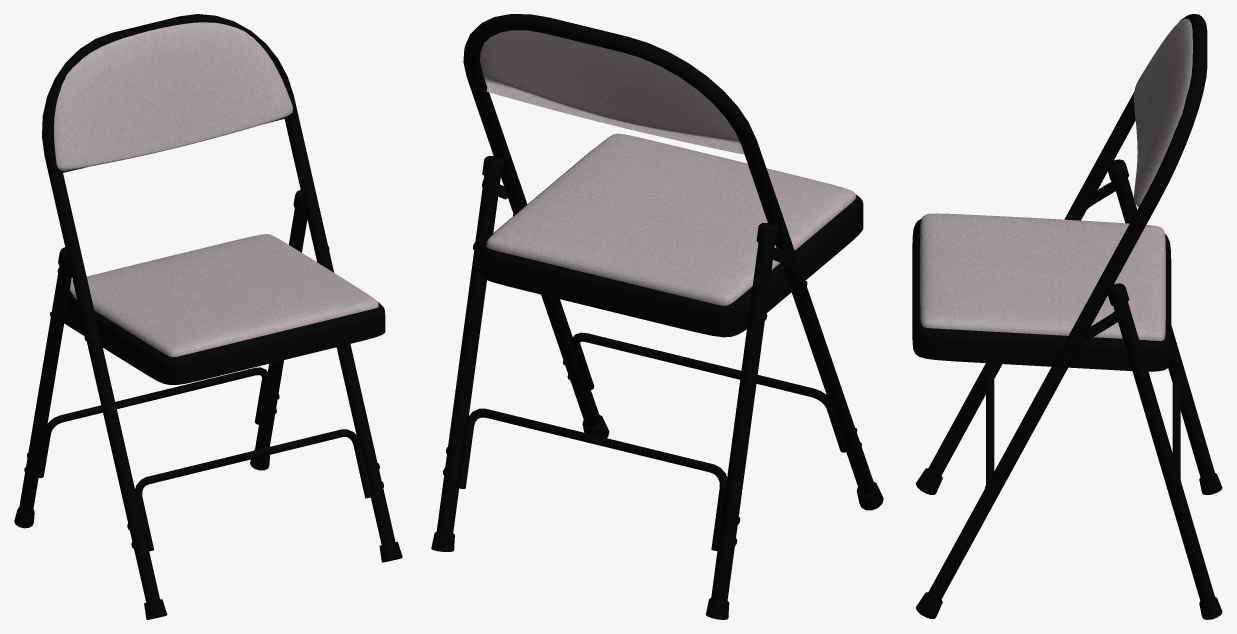
The model's file is chair_03_03.001.fbx.
3 views of the same model, side by side, from view 1: azimuth 30°, elevation 25°; view 2: azimuth 150°, elevation 25°; view 3: azimuth 270°, elevation 25° (orthographic). The views are drawn at different scales.
Parts seen in each view (by area): view 1: chair_03_03.001; view 2: chair_03_03.001; view 3: chair_03_03.001.
Boxes of the visible parts, bbox=[...] form: chair_03_03.001: bbox=[14, 14, 402, 619]; chair_03_03.001: bbox=[431, 14, 883, 619]; chair_03_03.001: bbox=[912, 14, 1222, 619].
Bounding box in the file's own units: 45.16 × 80.7 × 44.26.
Materials: 1 (1 with a texture image).
